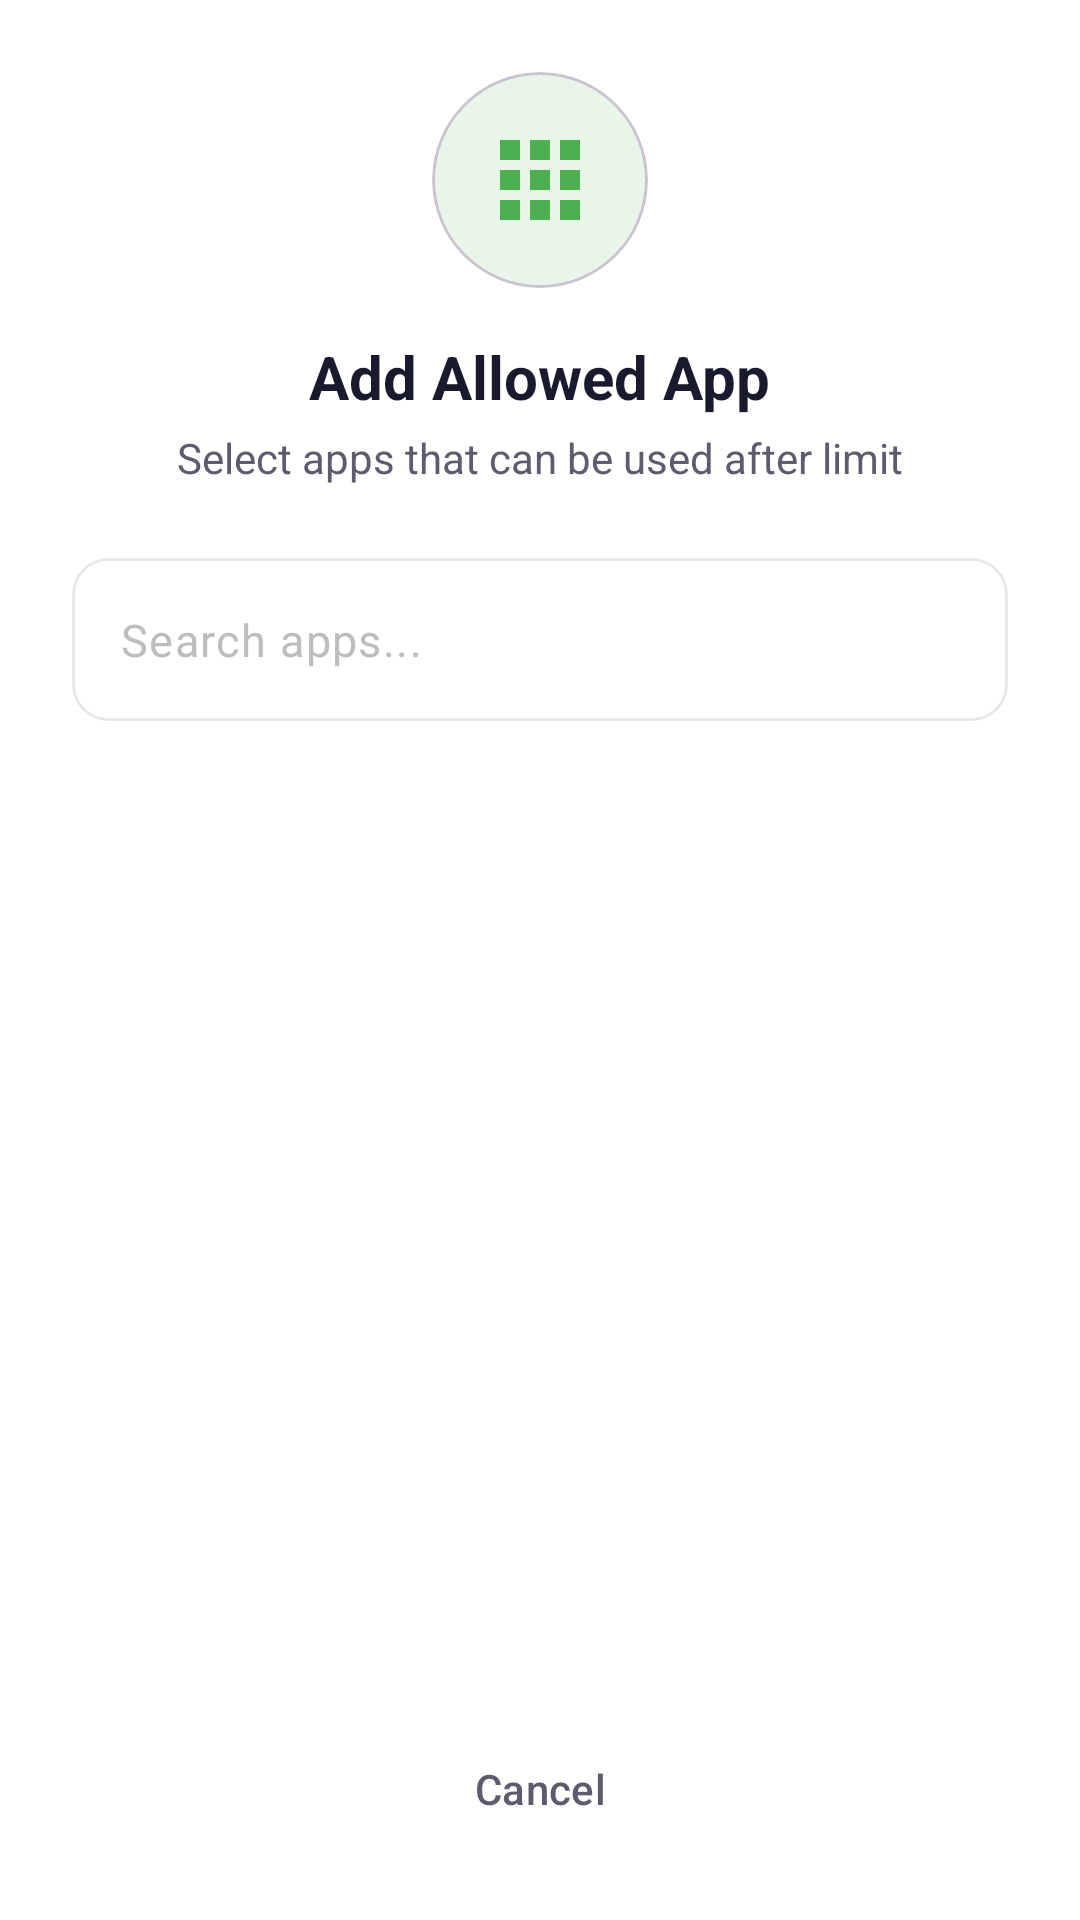

Icons on this 1080px×1920px Android screen, each with its box as (x1, y1, x2, y2):
apps: (500, 140, 580, 220)
